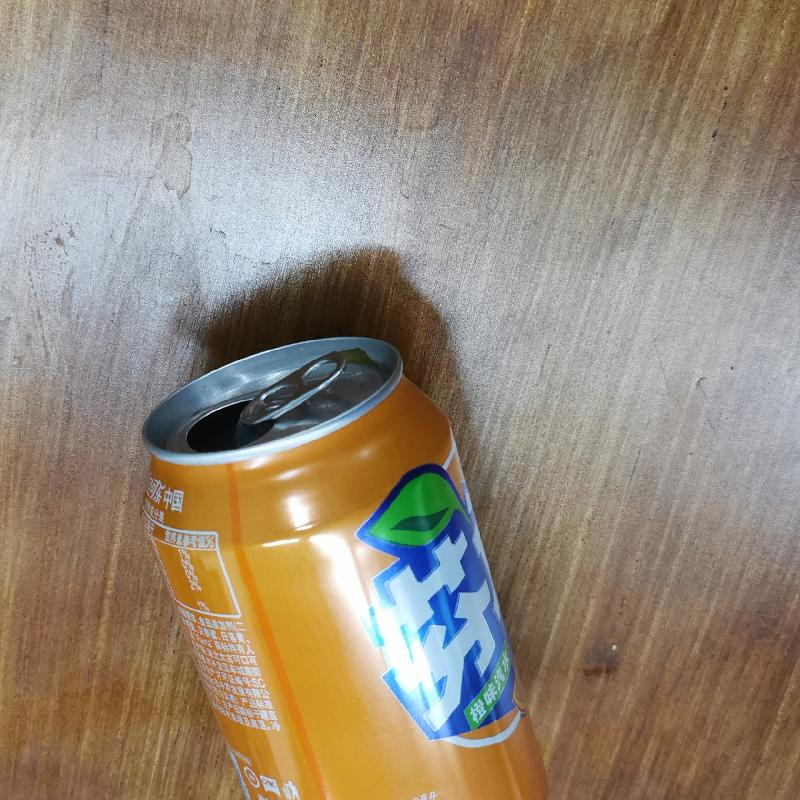cans: (137, 324, 559, 799)
